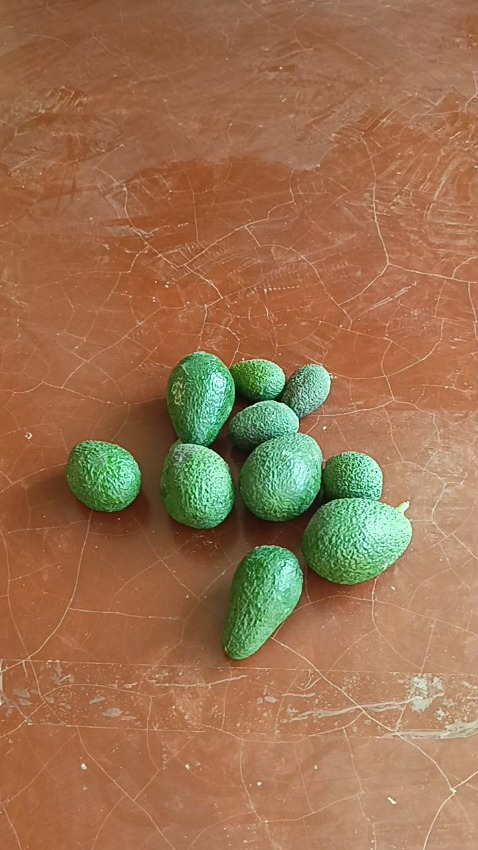Primera: (302, 497, 413, 583), (239, 432, 323, 520), (158, 441, 235, 528), (165, 351, 235, 445)
Segunda: (221, 544, 304, 658), (64, 439, 142, 511)
Tercera: (228, 400, 299, 452), (320, 450, 384, 501), (278, 364, 331, 419), (228, 358, 286, 402)
